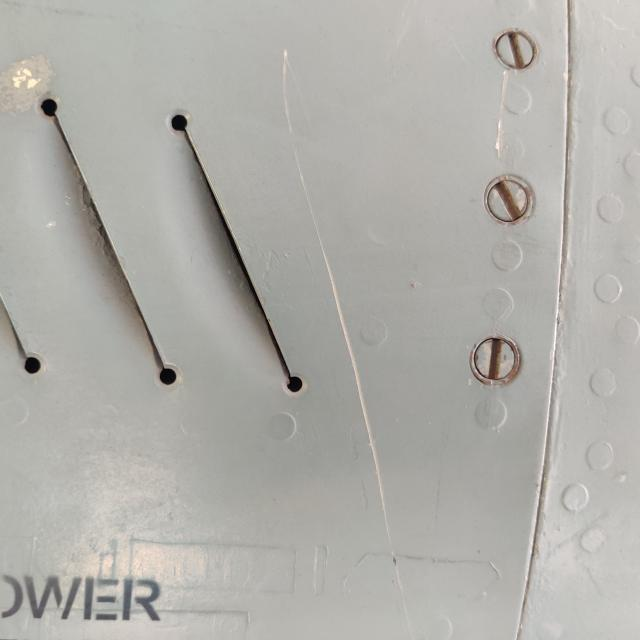scratch: (241, 36, 408, 546)
